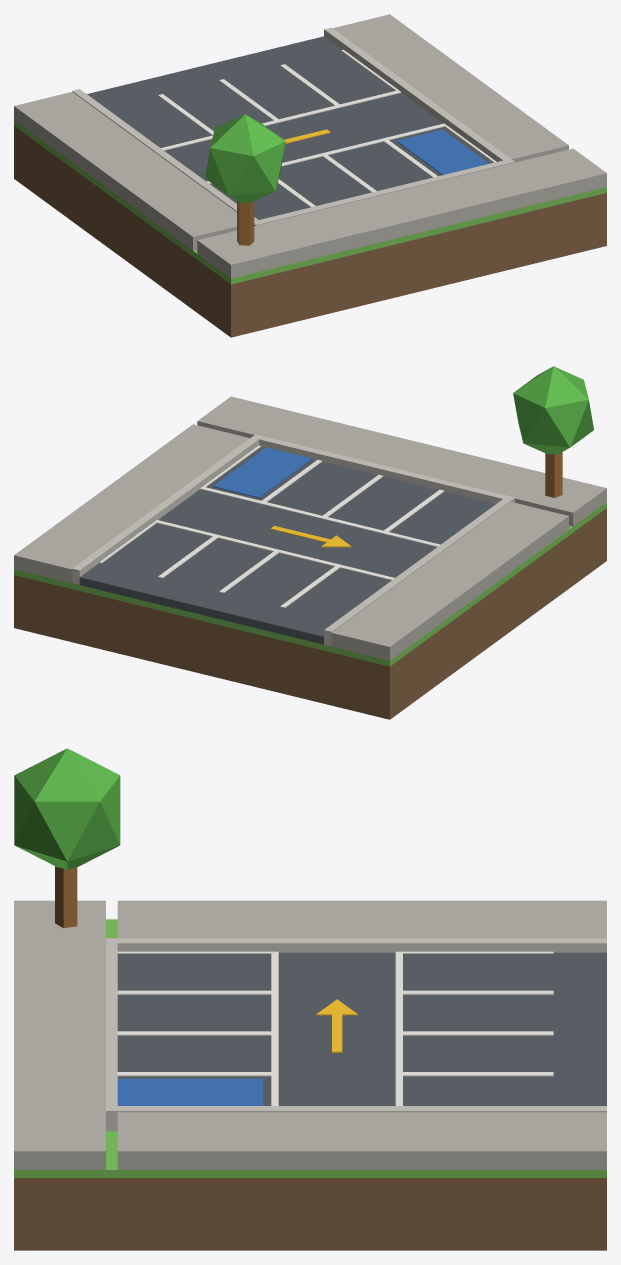
File: estacionamento.glb
3 views of the same model, one above another, from view 1: azimuth 30°, elevation 25°; view 2: azimuth 150°, elevation 25°; view 3: azimuth 270°, elevation 25° (orthographic). The views are drawn at different scales.
Visible parts, largest first — view 1: corpo; view 2: corpo; view 3: corpo.
Boxes of the visible parts, box(x1,y1,x2,y2) form: corpo: box(14, 14, 606, 337); corpo: box(14, 366, 606, 719); corpo: box(14, 748, 606, 1250).
Bounding box in the file's own units: 2.01 × 1.02 × 2.
